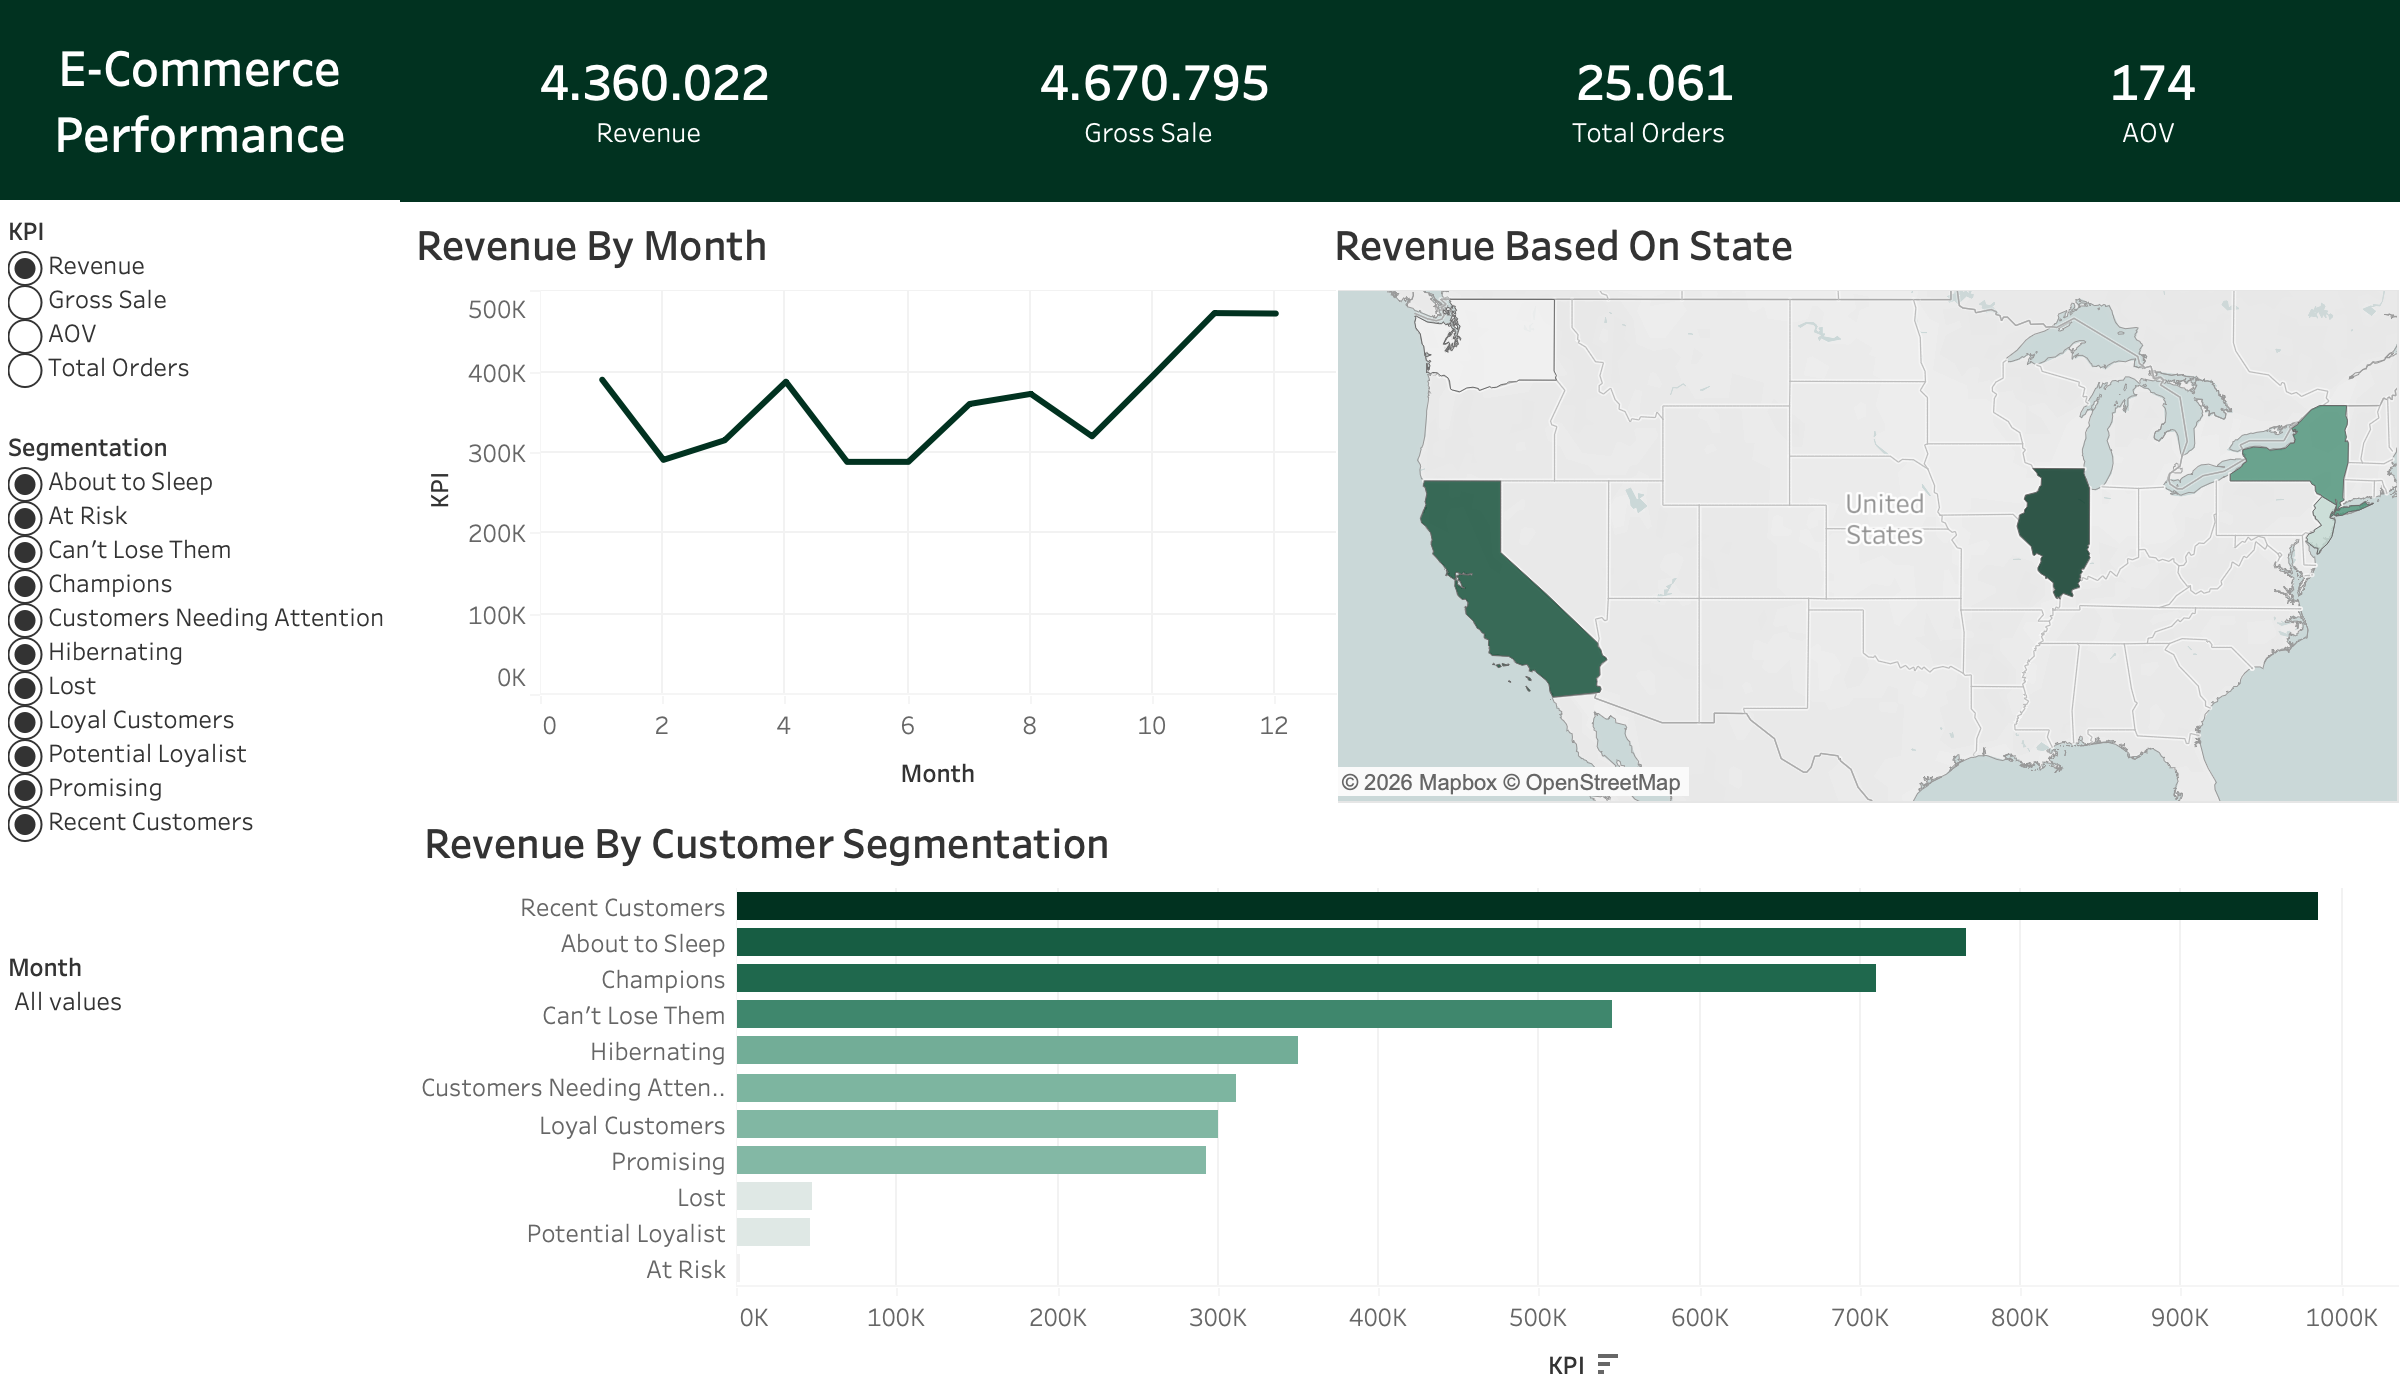

What the dashboard file says about the page in this screenshot:
{"tool":"tableau","page":{"name":"Dashboard 1","canvas":[1200,700],"ordinal":0},"visuals":[{"type":"text","box":[0,0,200,100]},{"type":"worksheet","title":"KPI","mark":"Automatic","box":[200,0,1000,100]},{"type":"parameter","param":"[Parameters].[Parameter 3162453322219523]","box":[0,102,200,108]},{"type":"worksheet","title":"Trendlines","mark":"Automatic","rows":["Calculation_3162453322706950"],"cols":["Month"],"box":[204,102,464,300]},{"type":"worksheet","title":"MAPS","mark":"Automatic","box":[663,102,537,300]},{"type":"filter","title":"MAPS","param":"[federated.0gz3gv10snfa8u10uh1j71vjmn24].[none:Segmentation:nk]","box":[0,210,200,260]},{"type":"worksheet","title":"Sheet 4","mark":"Automatic","rows":["Segmentation"],"cols":["Calculation_3162453322706950"],"box":[208,401,991,297]},{"type":"filter","title":"MAPS","param":"[federated.0gz3gv10snfa8u10uh1j71vjmn24].[none:Month:qk]","box":[0,470,200,69]}]}

Visuals, with their boxes in screenshot pixels (x1, y1, x2, y2), scaled from the page's 1200x700 canvas onto the 2400x1400 screenshot:
text: detection(0, 0, 400, 200)
"KPI" worksheet: detection(400, 0, 2399, 200)
parameter: detection(0, 204, 400, 420)
"Trendlines" worksheet: detection(408, 204, 1336, 804)
"MAPS" worksheet: detection(1326, 204, 2399, 804)
"MAPS" filter: detection(0, 420, 400, 940)
"Sheet 4" worksheet: detection(416, 802, 2398, 1396)
"MAPS" filter: detection(0, 940, 400, 1078)
